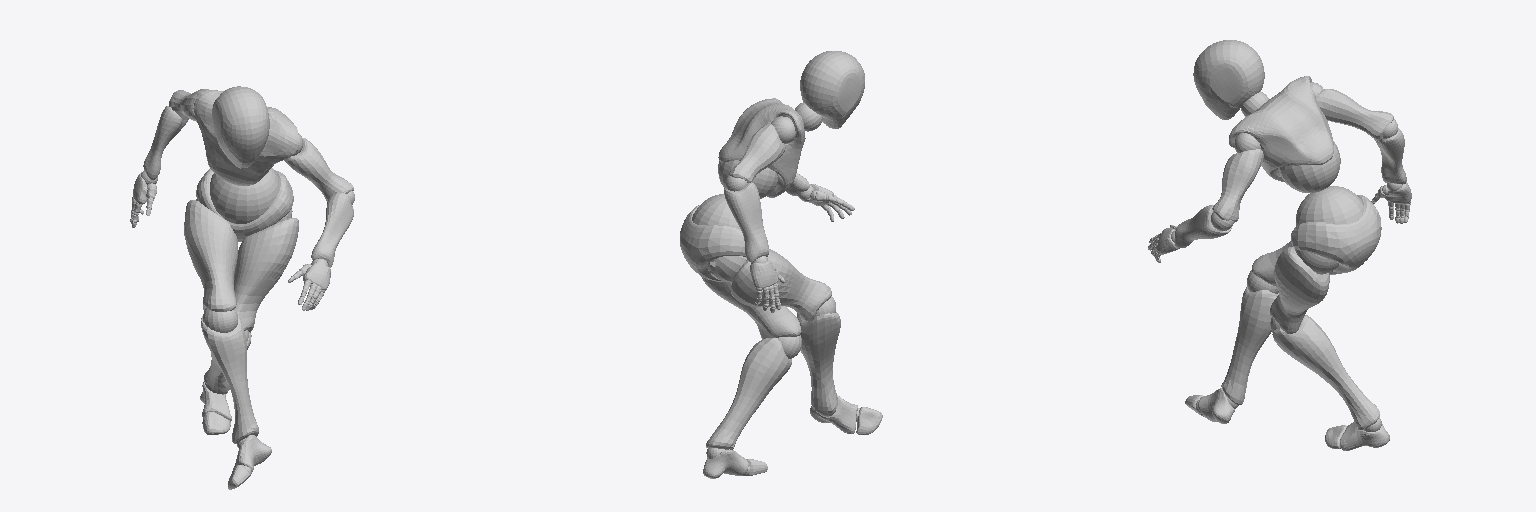
3 views of the same model, side by side, from view 1: azimuth 30°, elevation 25°; view 2: azimuth 150°, elevation 25°; view 3: azimuth 270°, elevation 25° (orthographic).
Parts seen in each view (by area): view 1: Beta_Surface, Beta_Joints; view 2: Beta_Surface, Beta_Joints; view 3: Beta_Surface, Beta_Joints.
Boxes of the visible parts, x1=… form: Beta_Surface: x1=130, y1=86, x2=353, y2=489; Beta_Joints: x1=130, y1=99, x2=354, y2=475; Beta_Surface: x1=680, y1=51, x2=882, y2=478; Beta_Joints: x1=692, y1=102, x2=859, y2=475; Beta_Surface: x1=1148, y1=40, x2=1411, y2=450; Beta_Joints: x1=1149, y1=82, x2=1410, y2=431.
Size of the model in its own units: 0.5491 by 1.47 by 0.9019.